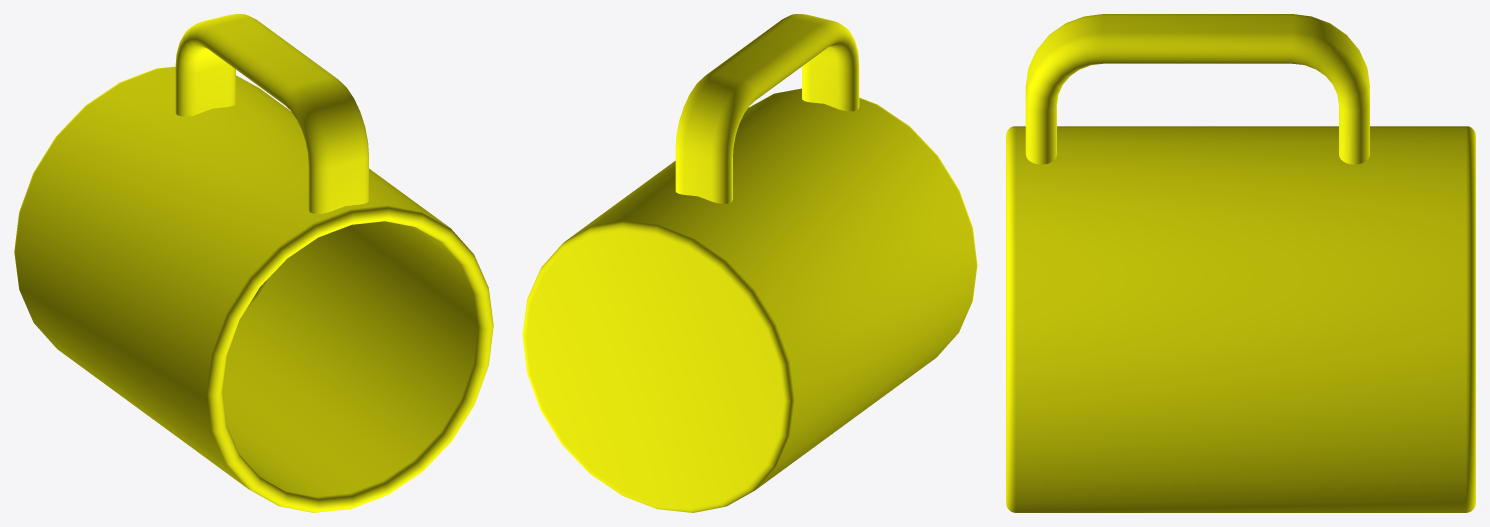
File: model_scale.obj
The picture shows the model from 3 angles, left to right: view 1: azimuth 30°, elevation 25°; view 2: azimuth 150°, elevation 25°; view 3: azimuth 270°, elevation 25°; orthographic projection. The views are drawn at different scales.
Parts seen in each view (by area): view 1: mesh1_mesh1-geometry, mesh2_mesh2-geometry; view 2: mesh1_mesh1-geometry, mesh2_mesh2-geometry; view 3: mesh1_mesh1-geometry, mesh2_mesh2-geometry.
Part boxes in pixels (left/top/right/bottom): mesh1_mesh1-geometry: left=14, top=66, right=493, bottom=512; mesh2_mesh2-geometry: left=175, top=14, right=368, bottom=213; mesh1_mesh1-geometry: left=522, top=88, right=977, bottom=512; mesh2_mesh2-geometry: left=675, top=14, right=859, bottom=203; mesh1_mesh1-geometry: left=1006, top=126, right=1475, bottom=512; mesh2_mesh2-geometry: left=1025, top=14, right=1369, bottom=164.
Size of the model in its own units: 0.0945 by 0.1264 by 0.1143.
